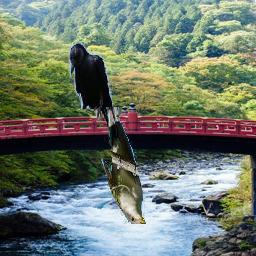Crow: (68, 43, 118, 146)
Cuckoo: (102, 108, 147, 225)
